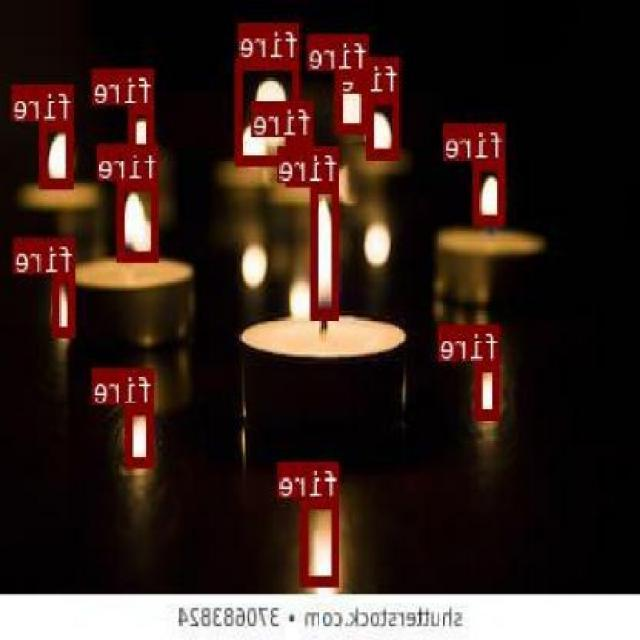fire: (236, 58, 302, 164), (312, 182, 340, 316), (120, 179, 160, 259), (303, 498, 340, 584), (40, 121, 74, 187), (337, 68, 371, 132), (368, 92, 401, 157), (476, 158, 506, 224), (127, 404, 155, 466), (476, 360, 502, 418), (55, 274, 77, 336), (288, 136, 314, 184), (130, 104, 156, 152)
